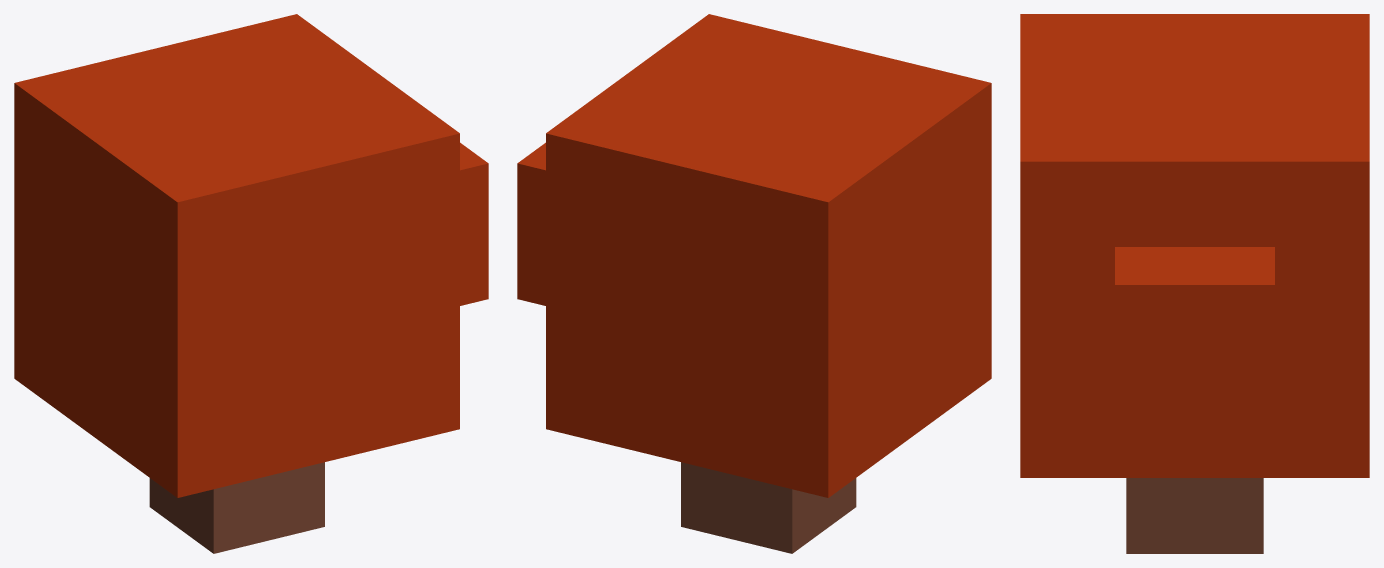
Rendered from Bush_9_summer_red_vc.fbx.
3 views of the same model, side by side, from view 1: azimuth 30°, elevation 25°; view 2: azimuth 150°, elevation 25°; view 3: azimuth 270°, elevation 25° (orthographic). The views are drawn at different scales.
Parts seen in each view (by area): view 1: Bush_9_summer_red_vc; view 2: Bush_9_summer_red_vc; view 3: Bush_9_summer_red_vc.
Part boxes in pixels (x1,y1,x2,y2): Bush_9_summer_red_vc: (14,14,488,553); Bush_9_summer_red_vc: (517,14,991,553); Bush_9_summer_red_vc: (1020,14,1369,553).
Size of the model in its own units: 48.65 by 53.49 by 38.7.
